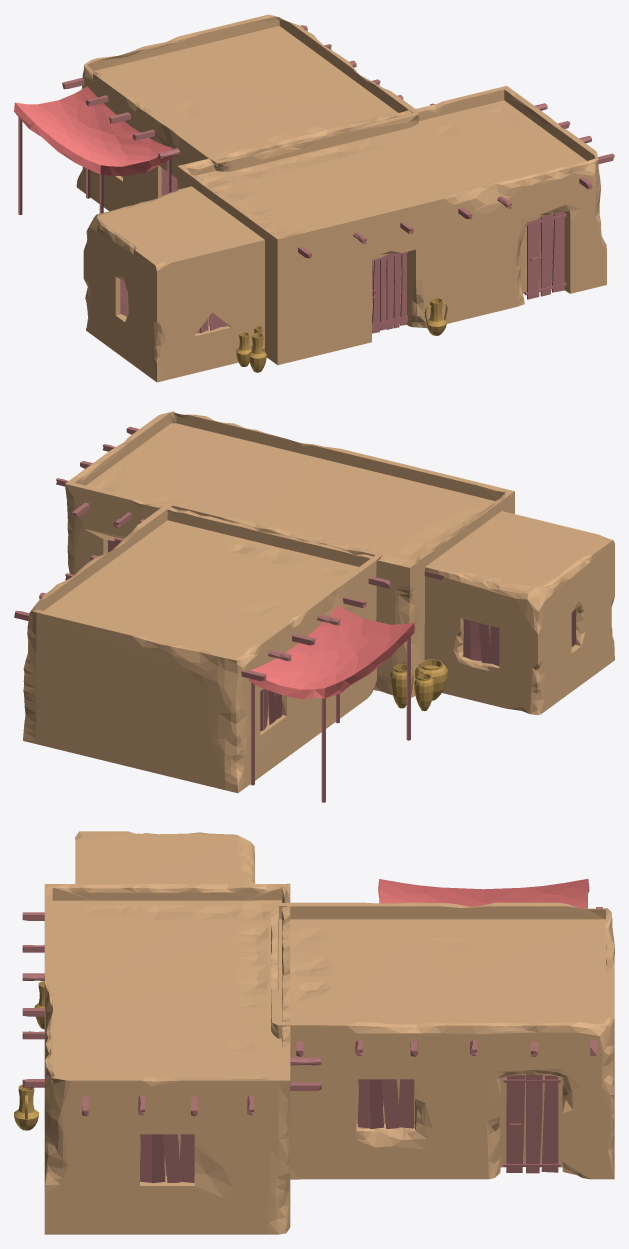
File: house1.glb
3 renders of one model, top to bottom at view 1: azimuth 30°, elevation 25°; view 2: azimuth 150°, elevation 25°; view 3: azimuth 270°, elevation 25°, orthographic. The views are drawn at different scales.
Visible parts, largest first — view 1: Object171; view 2: Object171; view 3: Object171.
Part boxes in pixels (<box>): Object171: <box>14,14,614,382</box>; Object171: <box>14,411,614,802</box>; Object171: <box>14,831,614,1234</box>.
Size of the model in its own units: 12.43 by 3.27 by 11.47.
